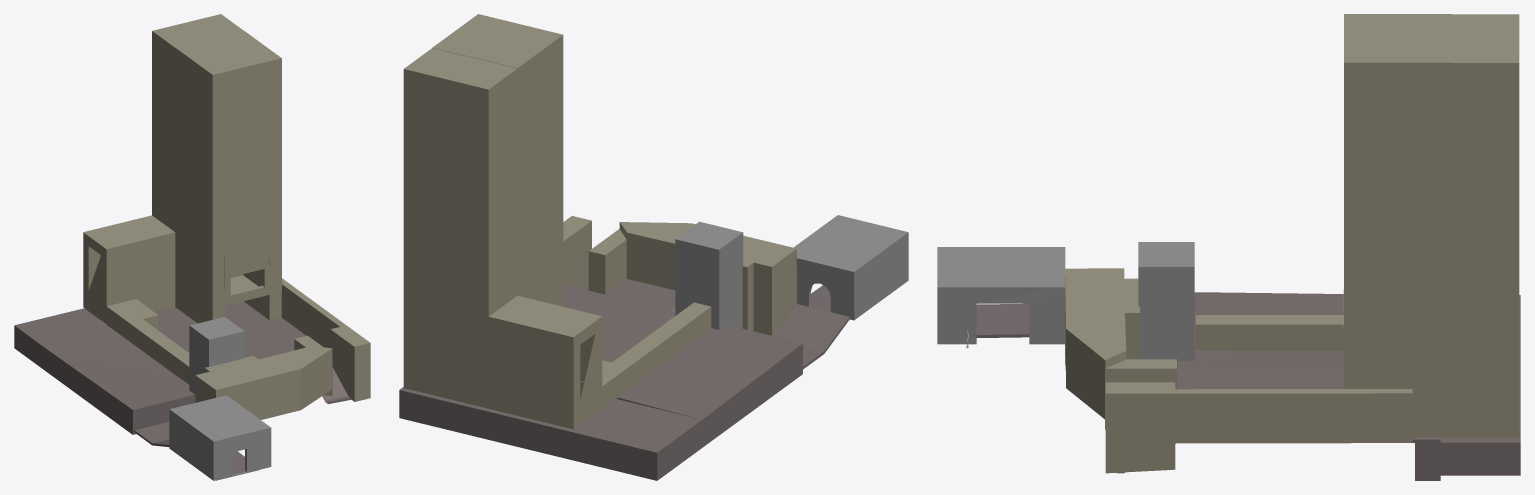
The model's file is map.fbx.
The picture shows the model from 3 angles, left to right: view 1: azimuth 30°, elevation 25°; view 2: azimuth 150°, elevation 25°; view 3: azimuth 270°, elevation 25°; orthographic projection. The views are drawn at different scales.
Parts seen in each view (by area): view 1: pCube11, pCube10, polySurface17, pCube21, pCube12, pCube18, pCube22; view 2: pCube11, pCube10, pCube21, polySurface17, pCube22, pCube18, pasted__pCube13, pCube12; view 3: pCube11, pCube12, pCube10, pCube21, polySurface17, pCube22, pCube18, pasted__pCube13.
Boxes of the visible parts, x1,y1,x2,y2 form: pCube11: [83, 14, 281, 323]; pCube10: [14, 301, 351, 480]; polySurface17: [195, 346, 332, 419]; pCube21: [169, 395, 271, 480]; pCube12: [281, 278, 370, 401]; pCube18: [106, 299, 189, 384]; pCube22: [189, 317, 244, 394]; pCube11: [403, 14, 602, 429]; pCube10: [399, 279, 849, 480]; pCube21: [794, 215, 908, 320]; polySurface17: [619, 222, 796, 335]; pCube22: [675, 221, 743, 329]; pCube18: [580, 302, 711, 409]; pasted__pCube13: [588, 229, 626, 294]; pCube12: [563, 216, 591, 290]; pCube11: [1343, 14, 1519, 437]; pCube12: [1105, 382, 1412, 473]; pCube10: [976, 292, 1520, 480]; pCube21: [937, 247, 1065, 344]; polySurface17: [1065, 268, 1139, 419]; pCube22: [1138, 242, 1194, 367]; pCube18: [1195, 315, 1343, 350]; pasted__pCube13: [1105, 359, 1176, 429].
Size of the model in its own units: 196 by 251 by 319.
